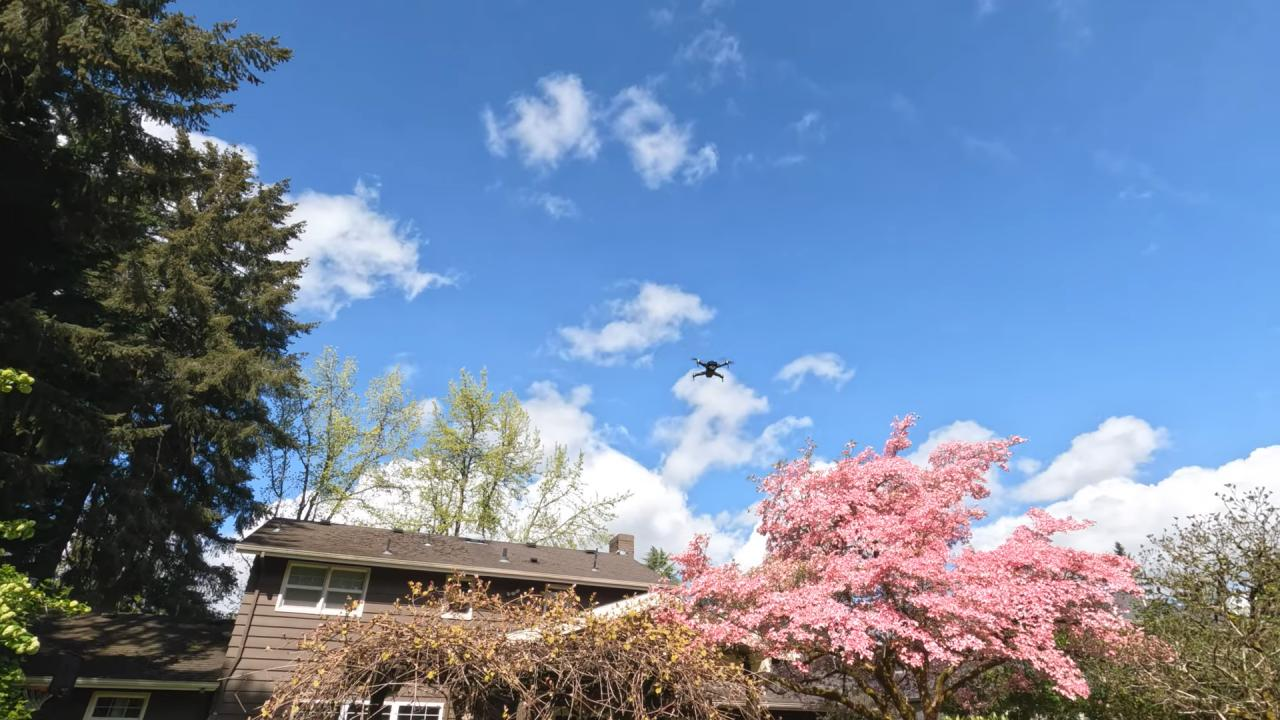Drone: (684, 349, 740, 388)
